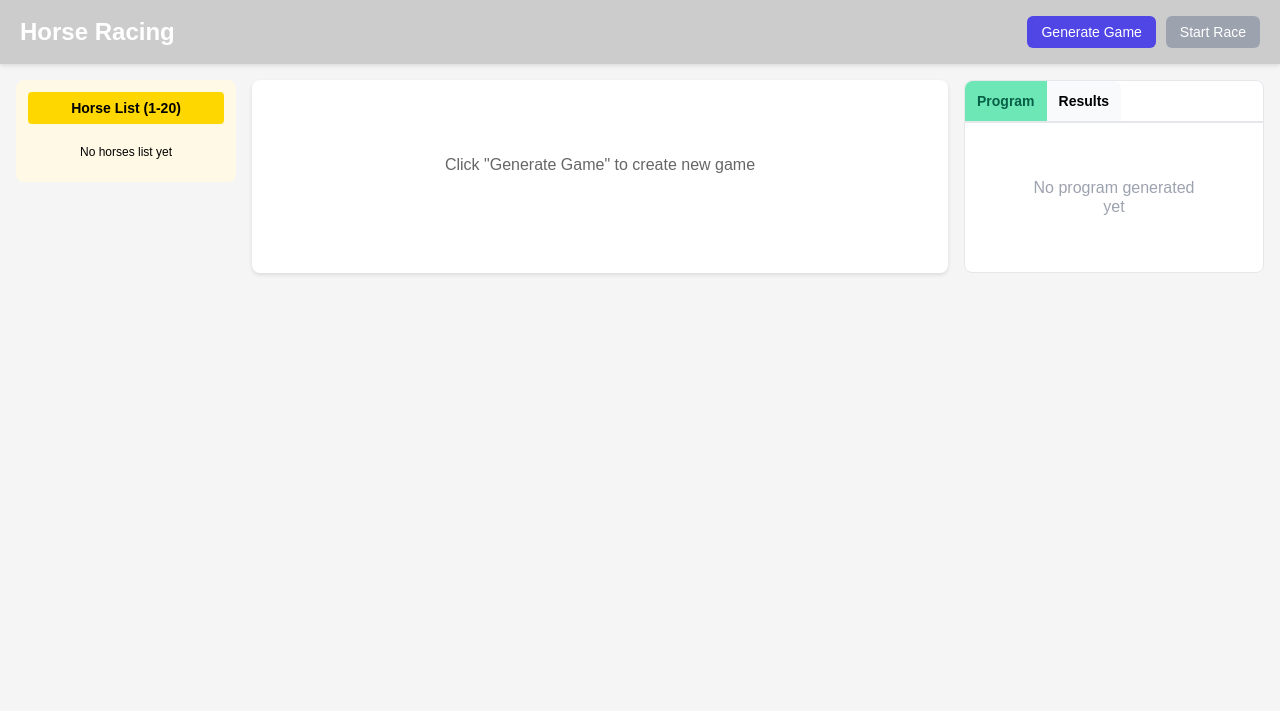
Test: Horse Racing Game › should generate game and display horses and rounds info
Click the button "Generate Game".
click(1092, 32)  # box [1028,16,1156,48]
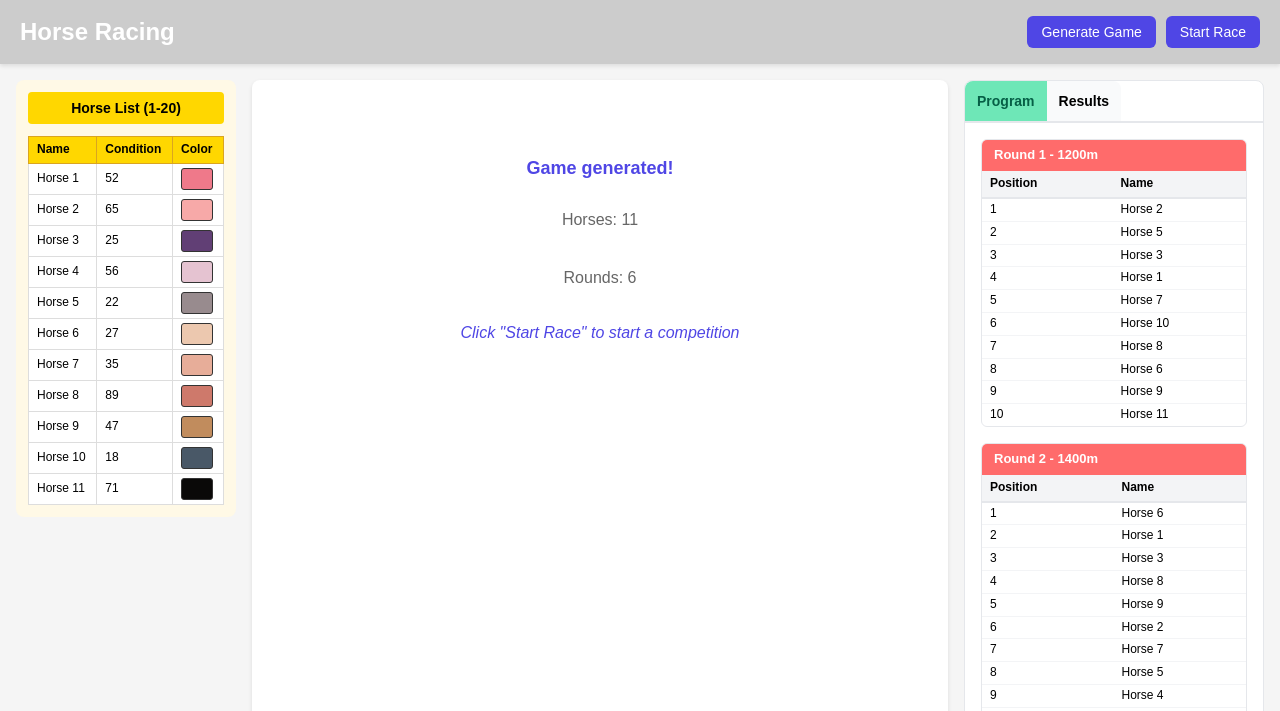
Result: the text "Game generated!" is shown at [526,158,674,178]
Result: the text "Horses: 11" is shown at [562,211,638,228]
Result: the text "Rounds: 6" is shown at [564,269,636,286]
